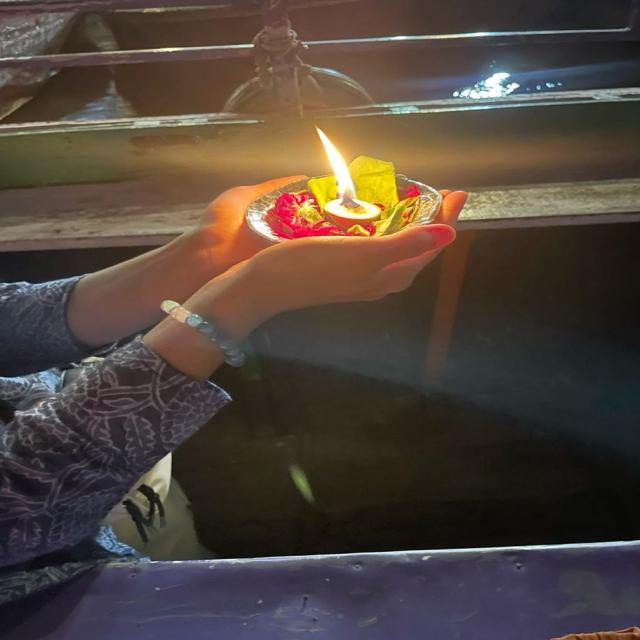fire: (318, 126, 356, 207)
